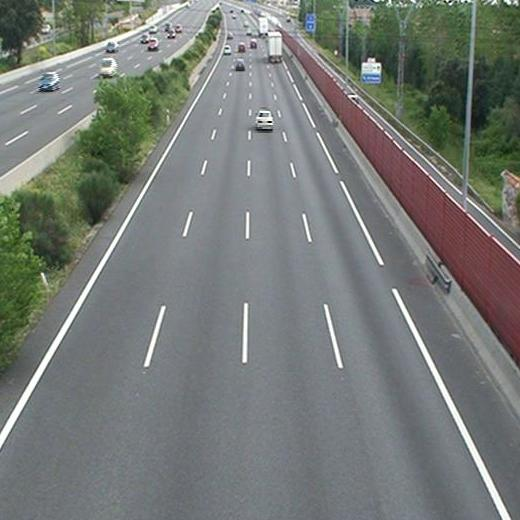car: (255, 110, 273, 129), (235, 60, 245, 71), (223, 45, 232, 55), (238, 43, 246, 54), (250, 40, 257, 48)
truck: (268, 30, 282, 63)
